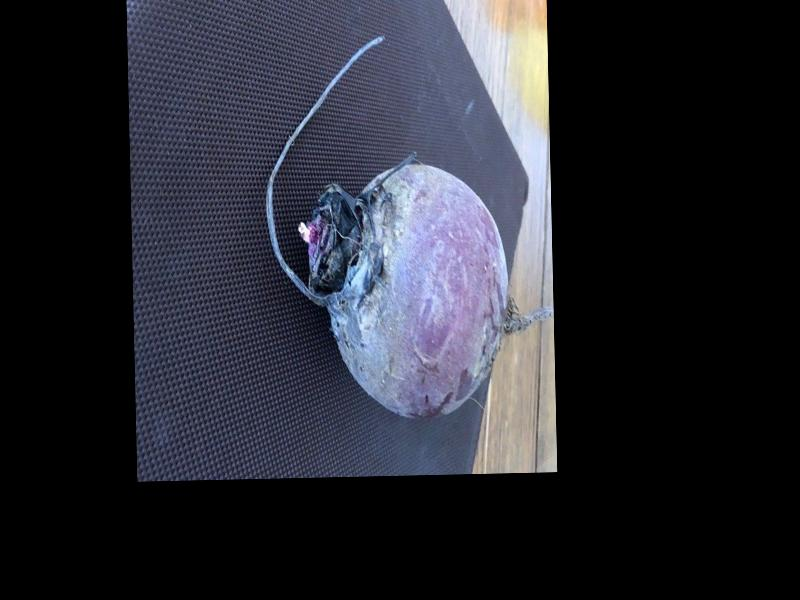Beet: (262, 31, 555, 422)
